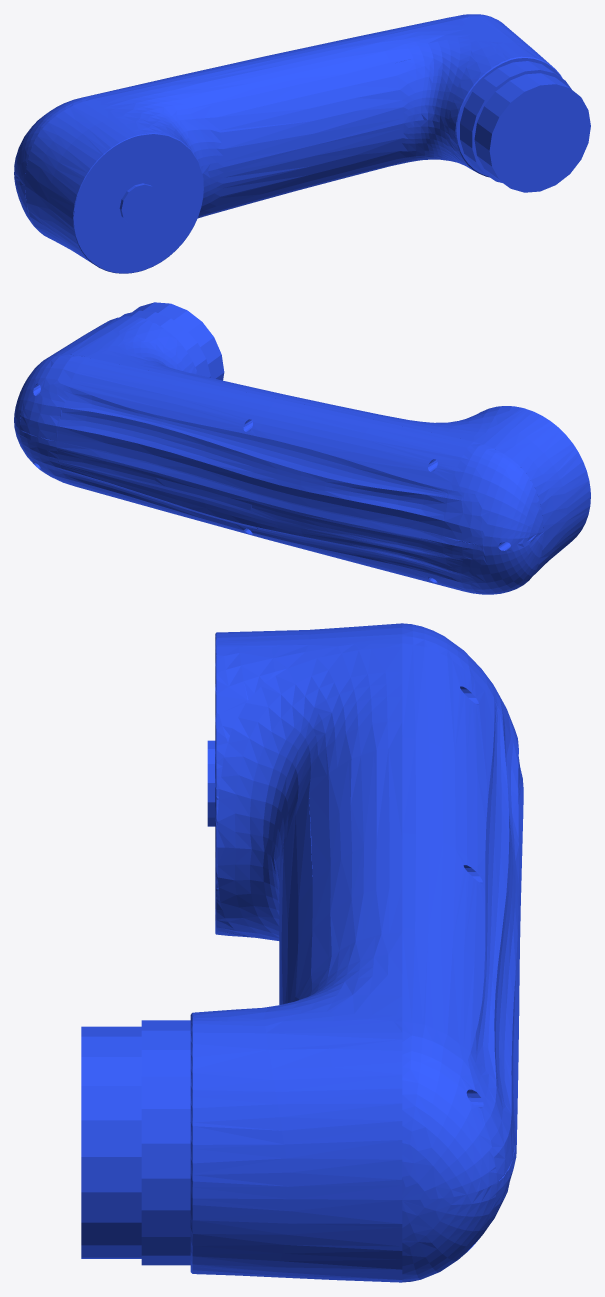
File: x_trainer_asm_0226_SLDASM_J2_3_visuals_J2_3_mesh.obj
The picture shows the model from 3 angles, top to bottom: view 1: azimuth 30°, elevation 25°; view 2: azimuth 150°, elevation 25°; view 3: azimuth 270°, elevation 25°; orthographic projection. The views are drawn at different scales.
Size of the model in its own units: 0.3017 by 0.082 by 0.1172.
